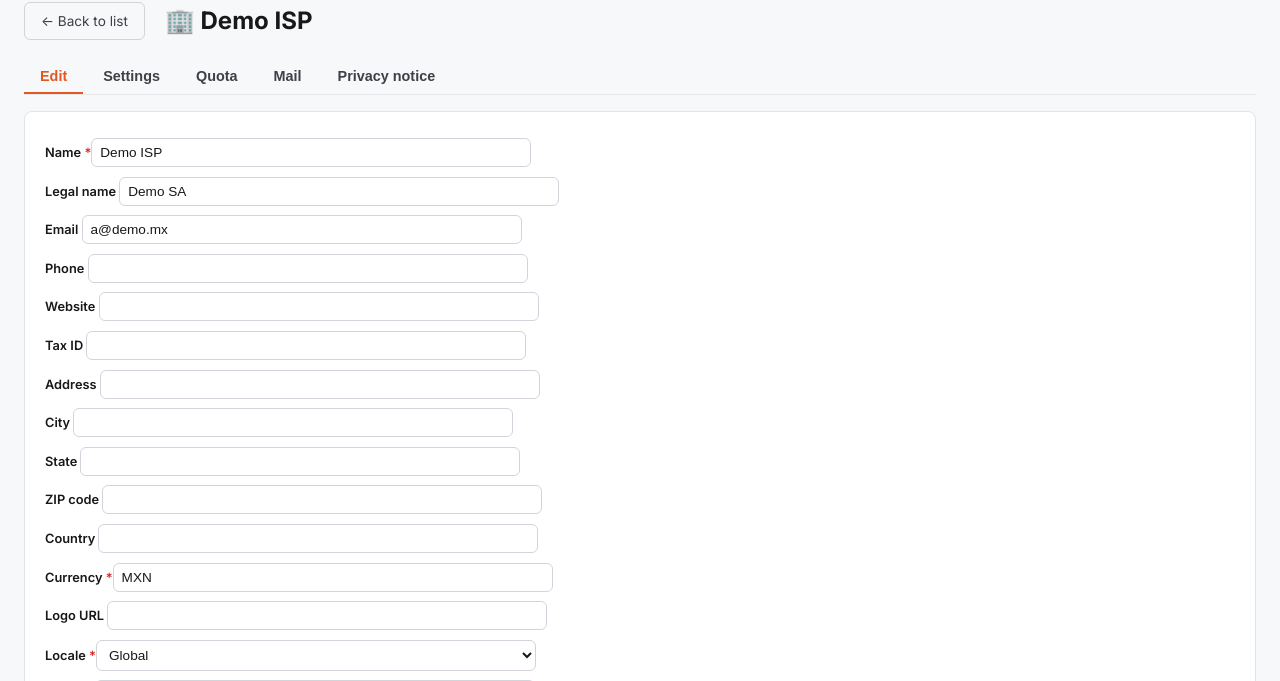
Test: OrganizationDetail page › sends a test email through the addressed function
Expected: the heading "🏢 Demo ISP" is shown, [165, 3, 312, 39]
Click the button "Mail" at (288, 77), box [258, 60, 318, 94]
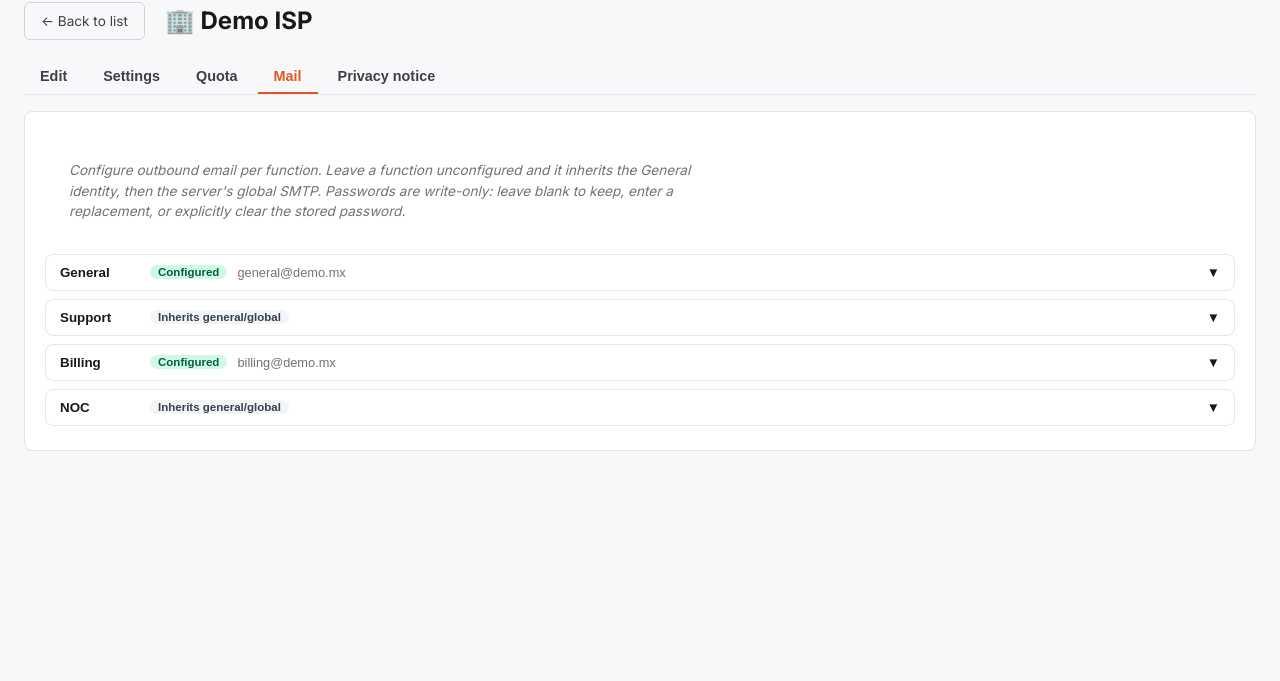
Click the text "Billing" at (80, 362), box [60, 355, 101, 370]
(page scrolled)
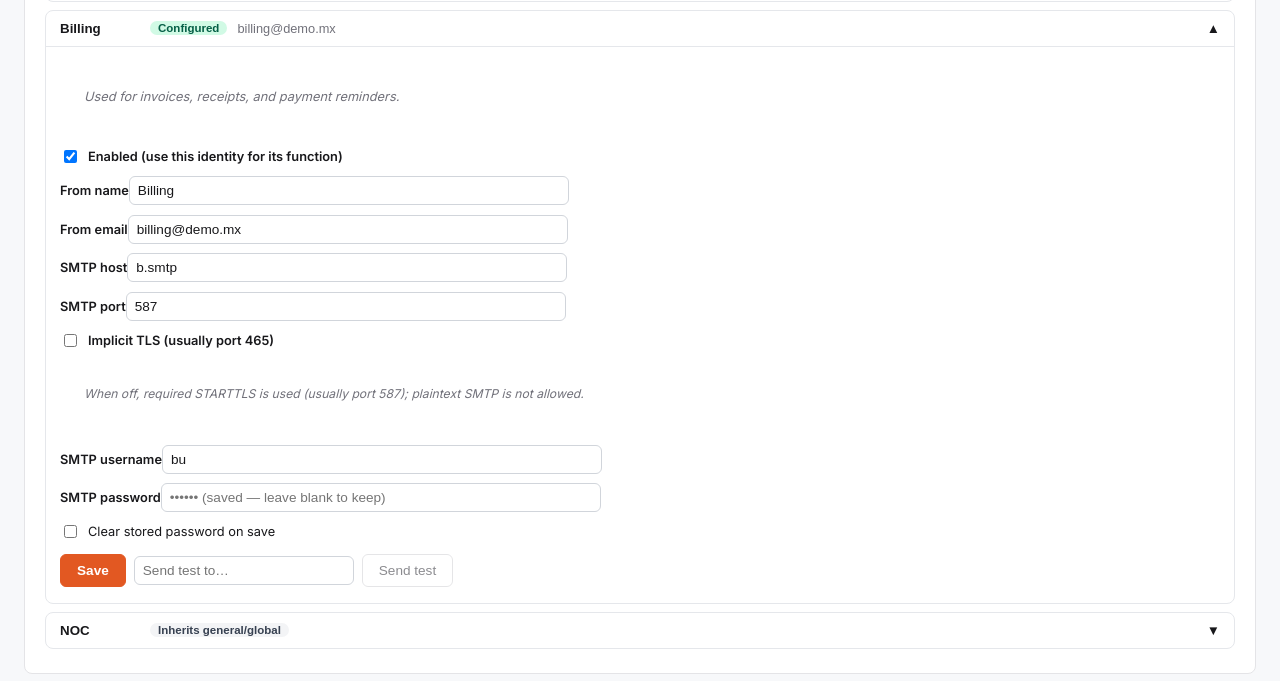
Type "me@demo.mx" into the field with placeholder "Send test to…" at (244, 570), box [134, 556, 354, 585]
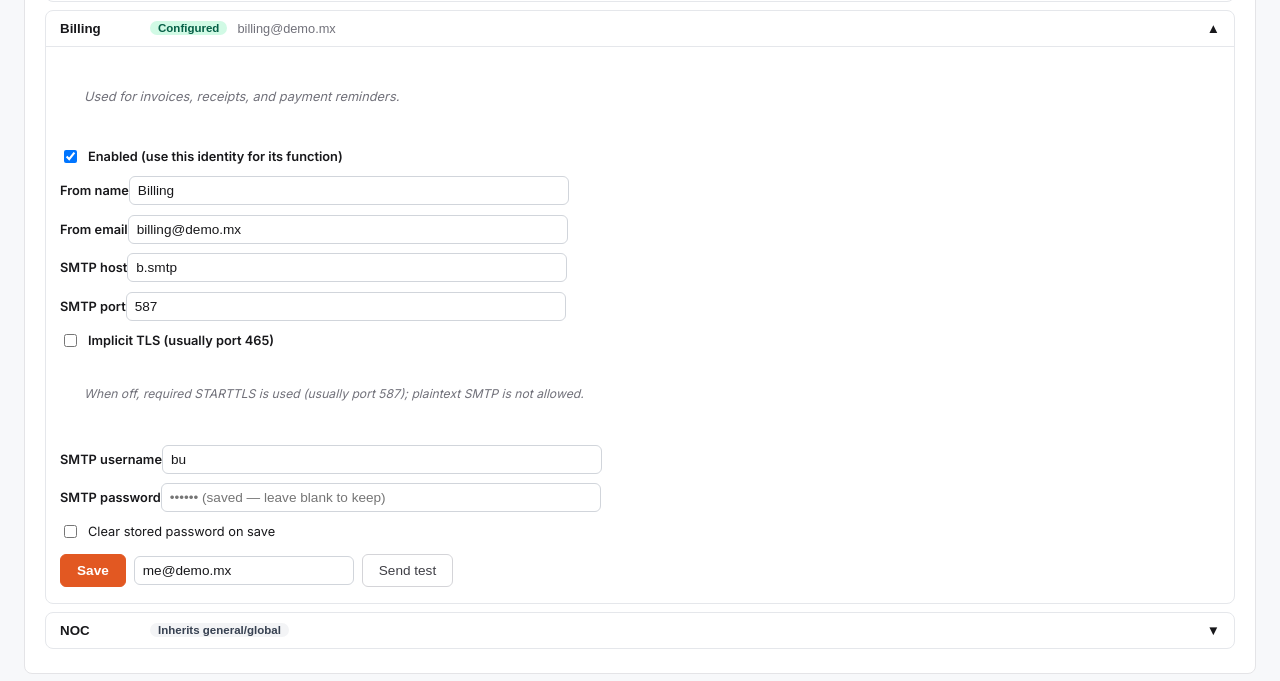
Click the button "Send test" at (408, 570), box [362, 554, 453, 587]
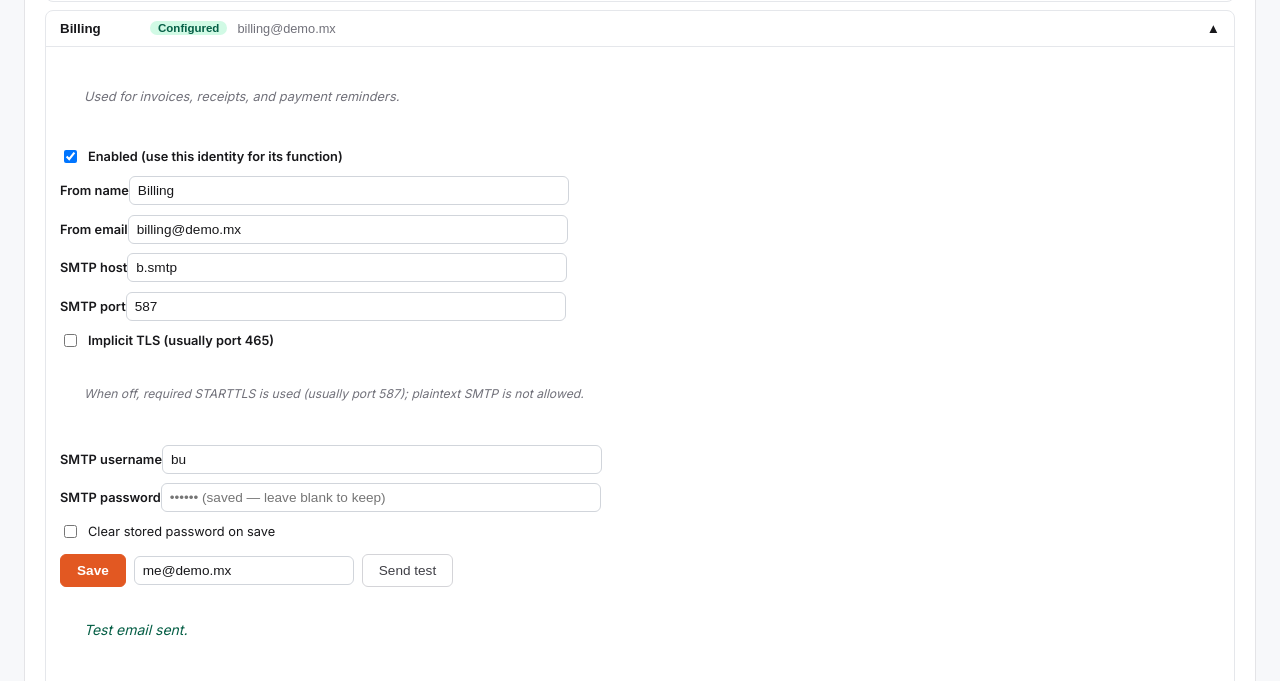
Now the text "Test email sent." is shown, box [84, 621, 188, 638]
